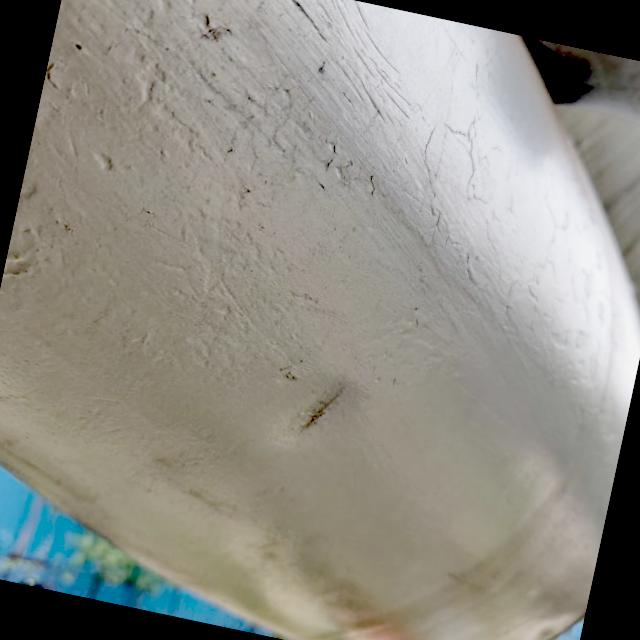dent: (260, 337, 390, 472)
